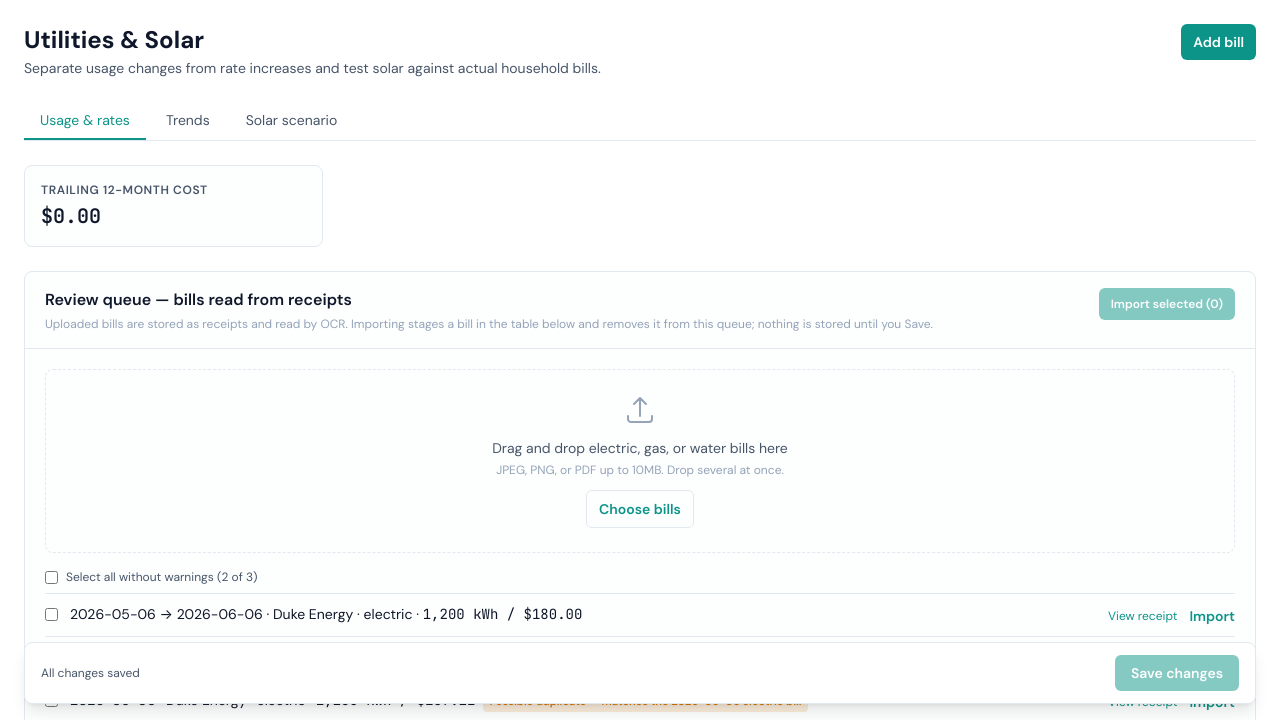
Scenario: utilities bill review queue › bulk-imports every clean suggestion and leaves the flagged duplicate behind
Step 1. Click the checkbox named "Select all bills without warnings" → (52, 577), box [45,570,58,584]
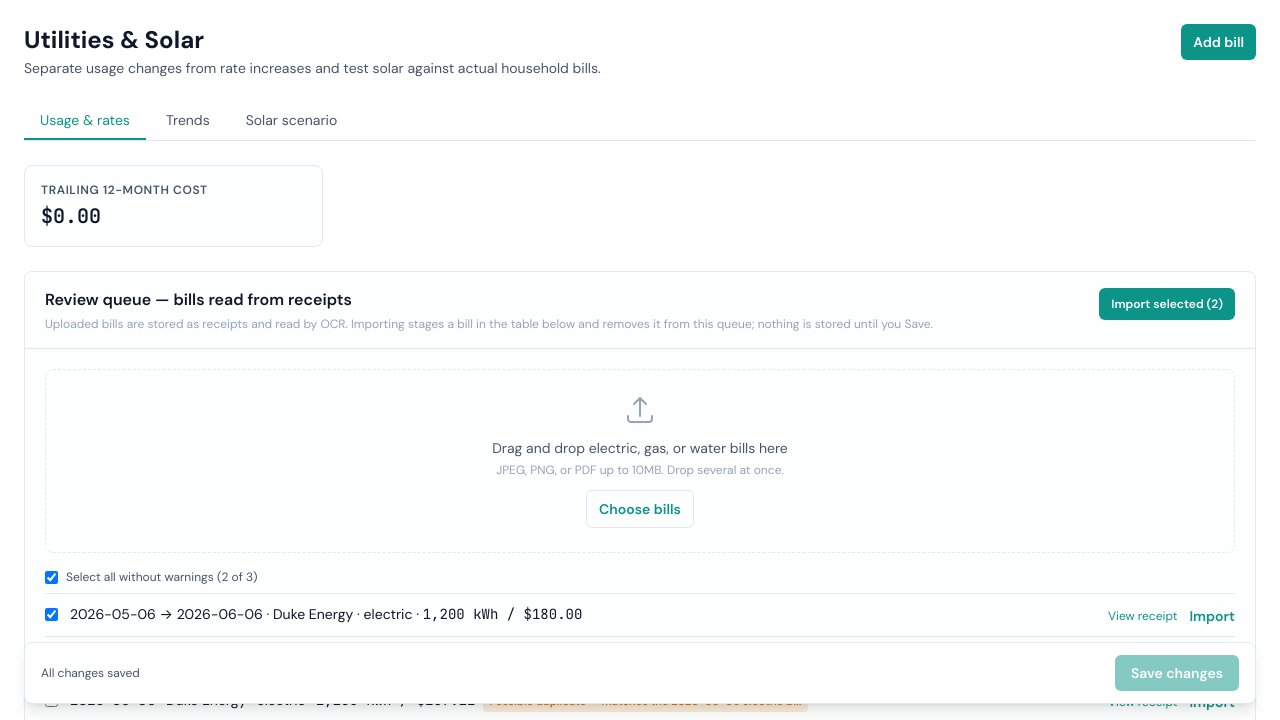
Step 2. Click the button "Import selected (2)" → (1167, 304), box [1099,288,1235,320]
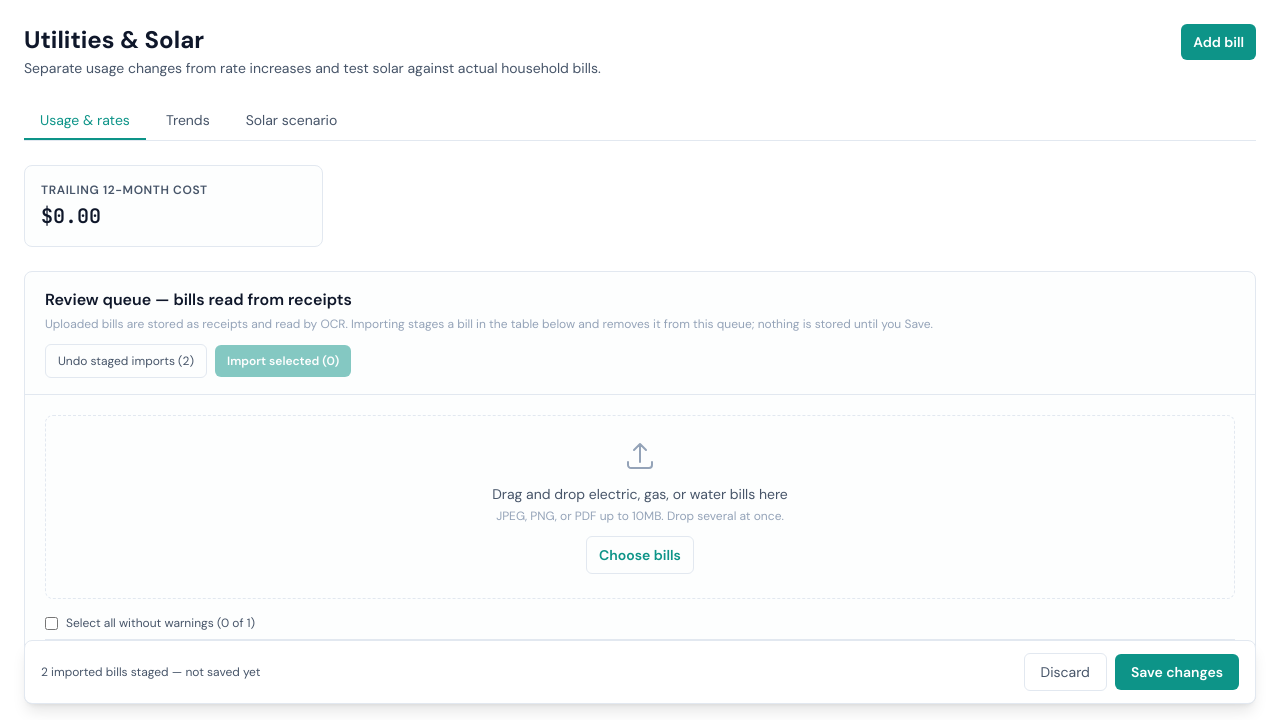
Check: the text "Select all without warnings (0 of 1)" is shown, box [45,615,1235,640]
